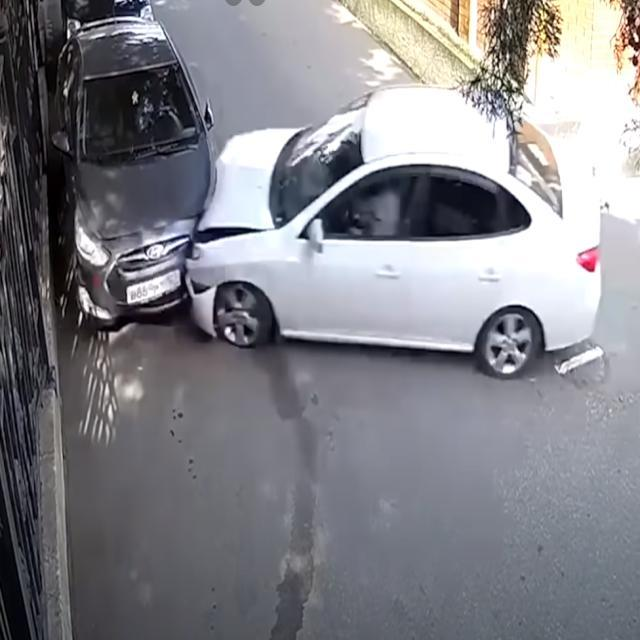accident: (46, 3, 604, 380)
